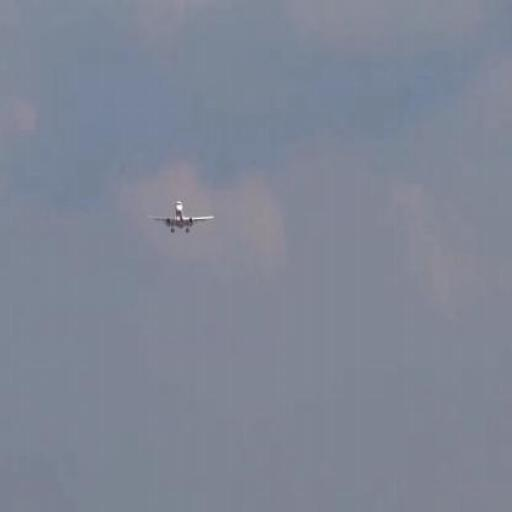aircraft: (148, 201, 216, 233)
